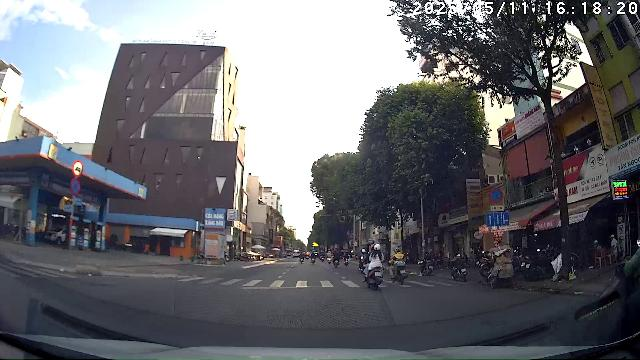130-cam-dung-va-do-xe: (69, 178, 81, 196)
131a-cam-do-xe: (489, 186, 503, 204)
